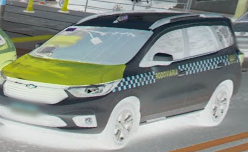car: (1, 12, 242, 148)
